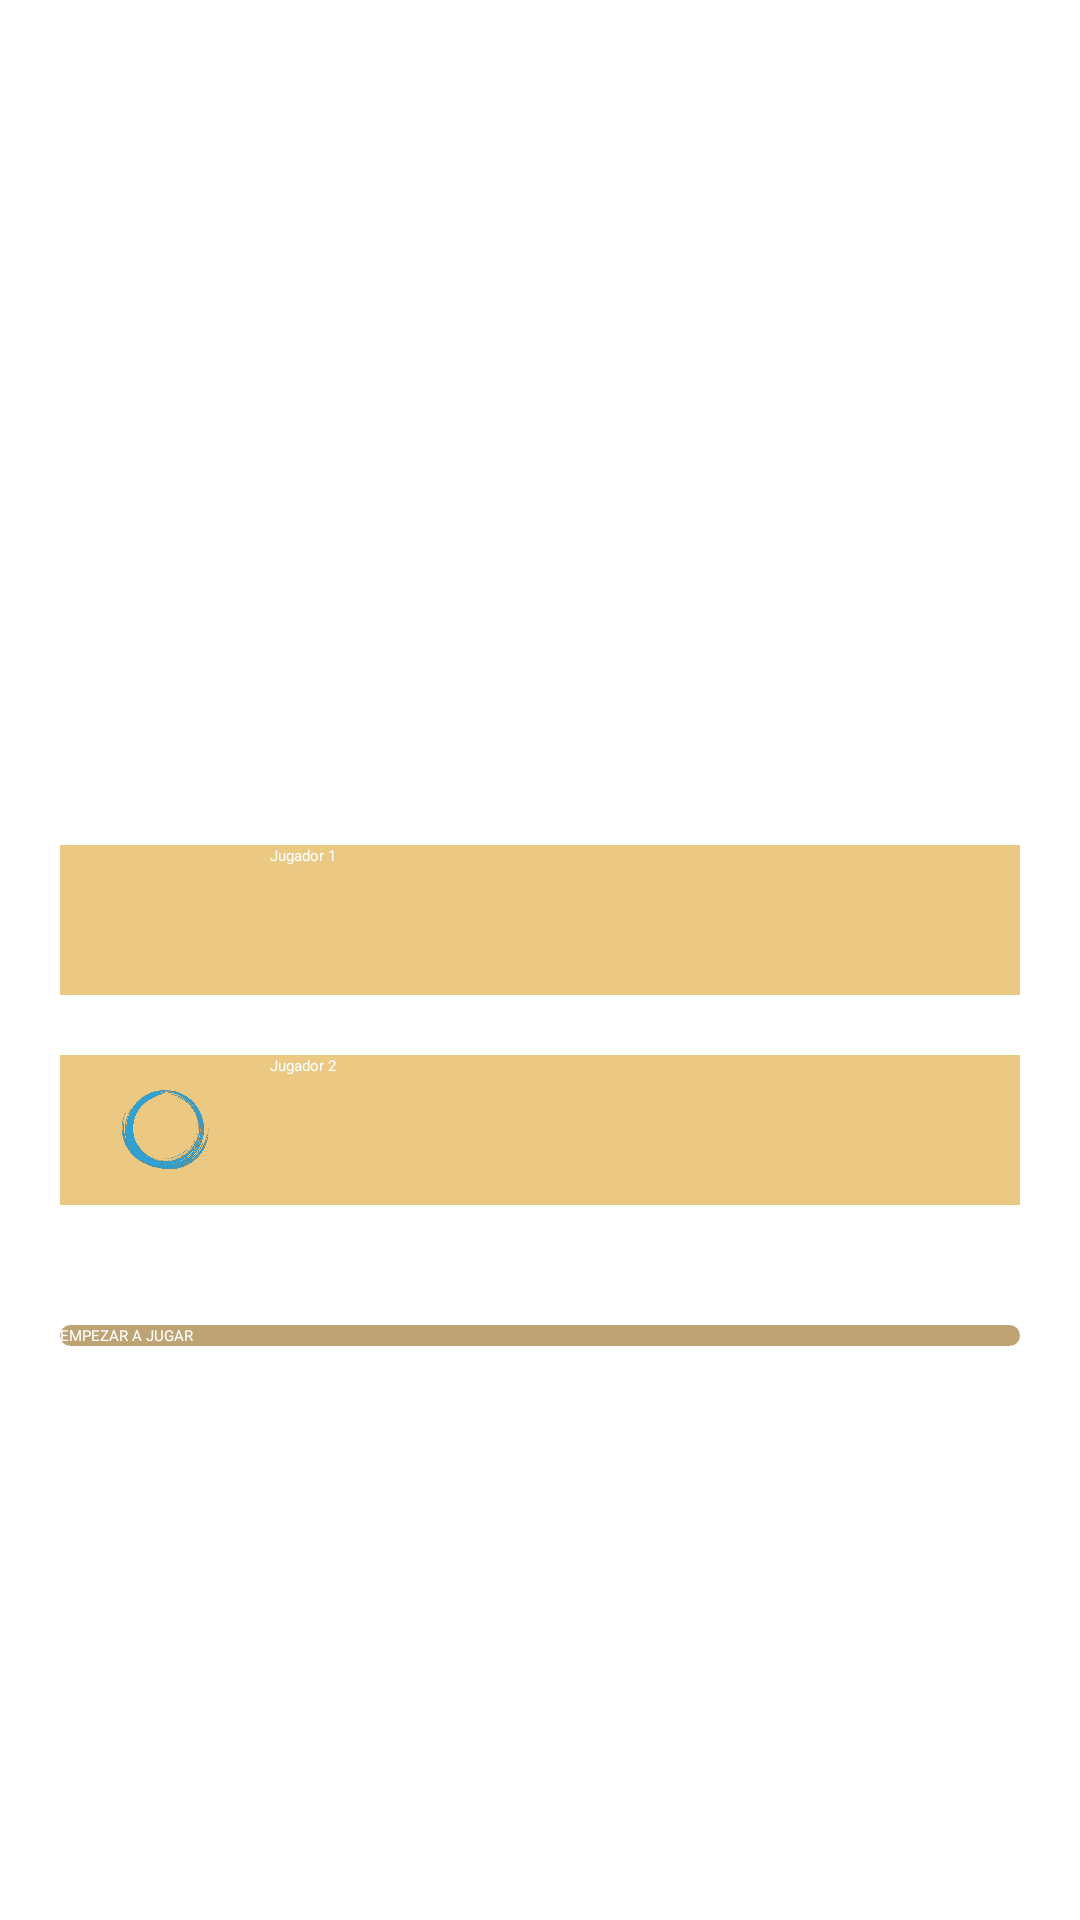

Where icons sit on this 1080px x 1920px app screen, as BBox(x1, y1, x2, y2):
circle: BBox(122, 1090, 209, 1169)
